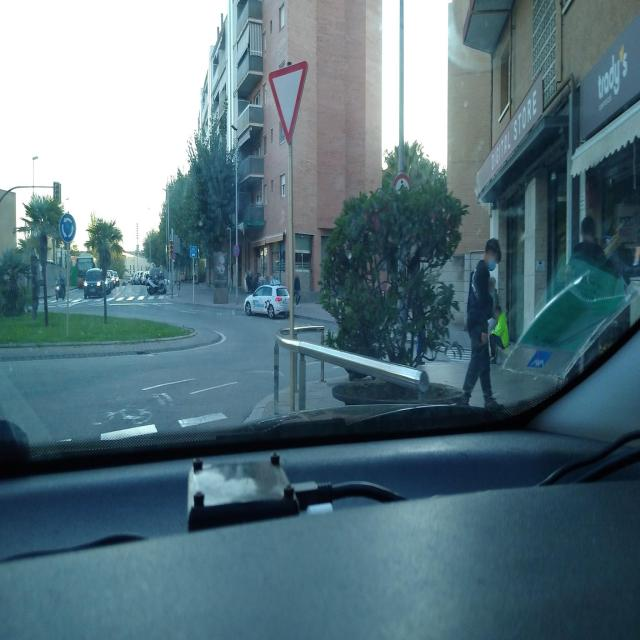forb_stopping: (233, 245, 240, 257)
